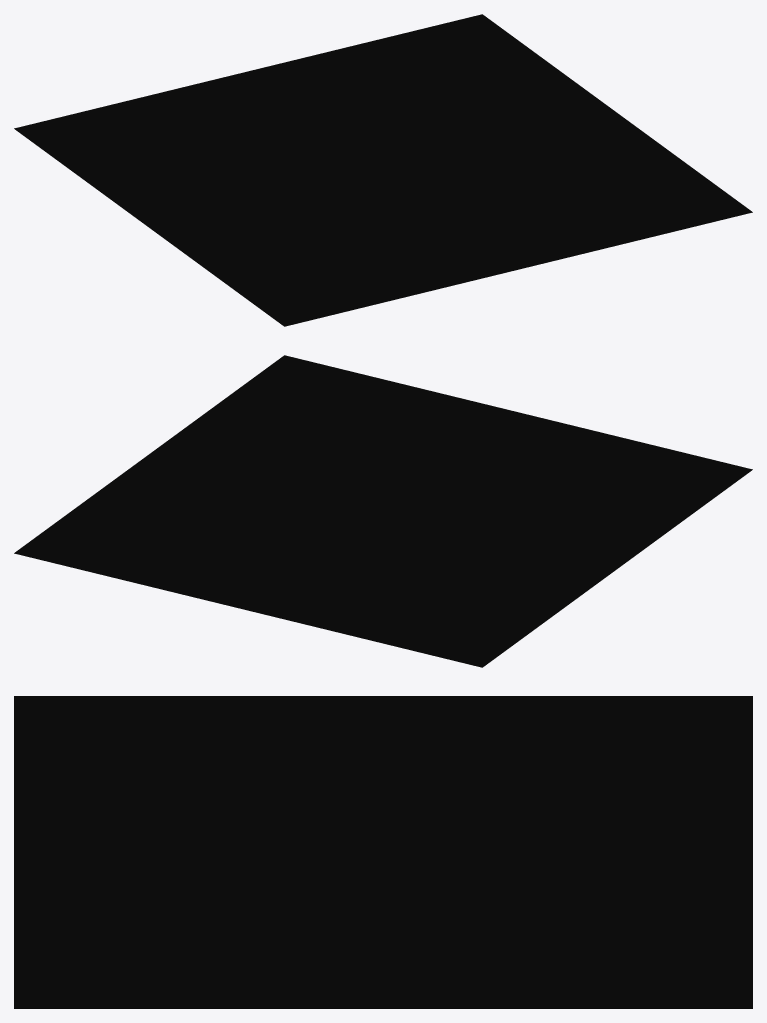
3 renders of one model, top to bottom at view 1: azimuth 30°, elevation 25°; view 2: azimuth 150°, elevation 25°; view 3: azimuth 270°, elevation 25°, orthographic. The views are drawn at different scales.
Parts seen in each view (by area): view 1: Joint_0_Object_0; view 2: Joint_0_Object_0; view 3: Joint_0_Object_0.
Boxes of the visible parts, x1,y1,x2,y2 form: Joint_0_Object_0: (14, 14, 752, 326); Joint_0_Object_0: (14, 355, 752, 667); Joint_0_Object_0: (14, 696, 752, 1008).
Size of the model in its own units: 4000 by 2.22 by 4000.
1 material, 1 textured.
